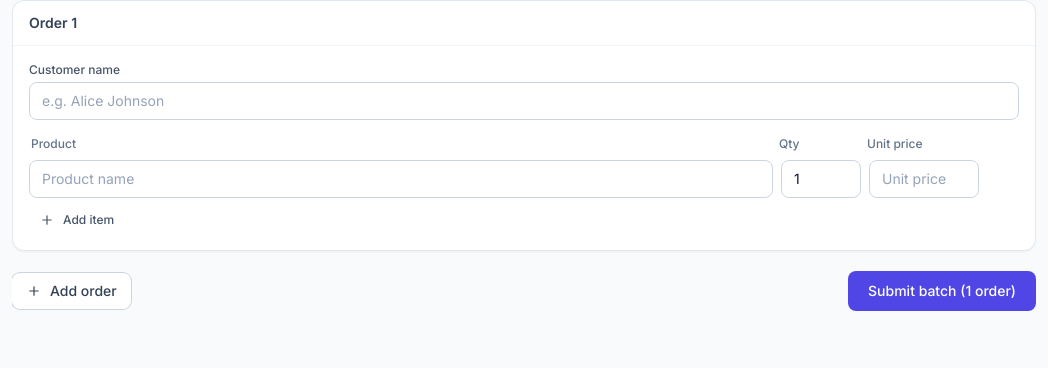
Test: CreateBatchForm › shows validation errors when submitting empty form
Click the button "Submit batch (1 order)": [942, 291] box [848,271,1036,311]
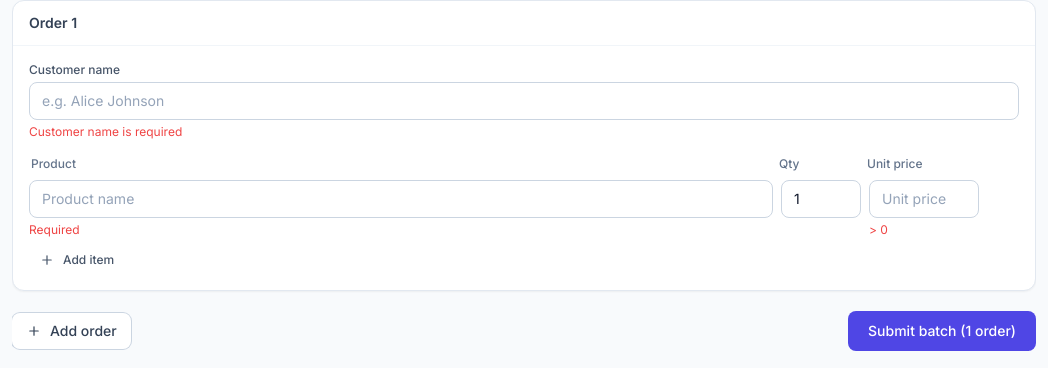
Check: the text "Customer name is required" is shown, box [29,124,182,139]
